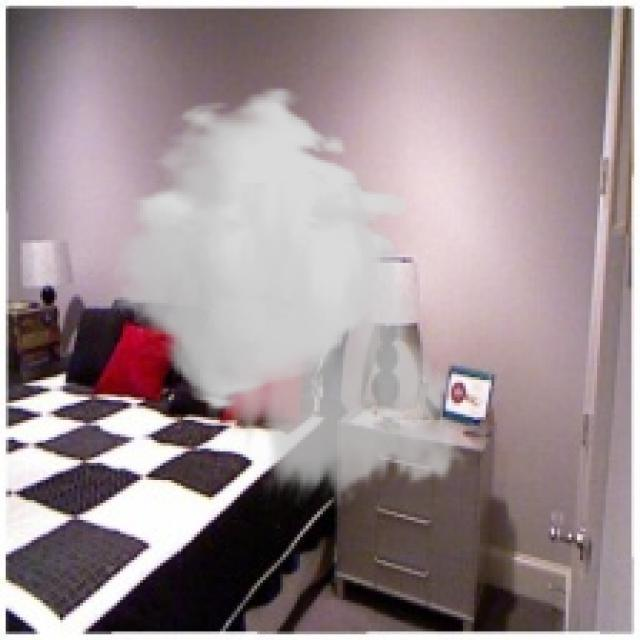Smoke: (114, 86, 474, 508)
